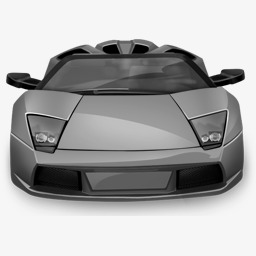car: (5, 37, 250, 203)
